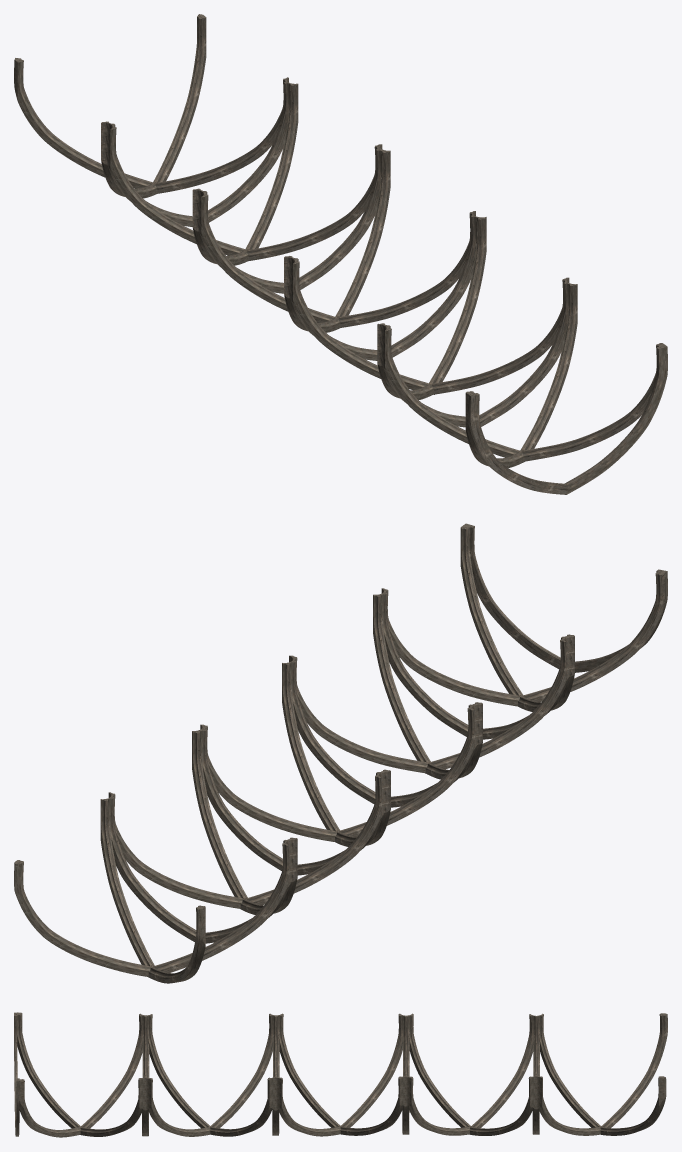
File: kreuzrippe.glb
The picture shows the model from 3 angles, top to bottom: view 1: azimuth 30°, elevation 25°; view 2: azimuth 150°, elevation 25°; view 3: azimuth 270°, elevation 25°; orthographic projection. The views are drawn at different scales.
Visible parts, largest first — view 1: pillér_29; view 2: pillér_29; view 3: pillér_29.
Part boxes in pixels (bbox=[...]): pillér_29: bbox=[14, 14, 667, 494]; pillér_29: bbox=[14, 523, 667, 983]; pillér_29: bbox=[14, 1012, 667, 1137].
Size of the model in its own units: 8.09 by 4.78 by 32.43.
Materials: 1 (1 with a texture image).
